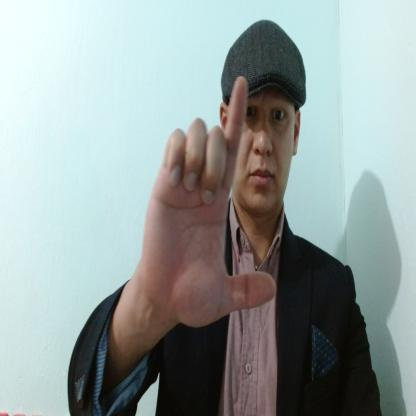L: (143, 76, 277, 328)
